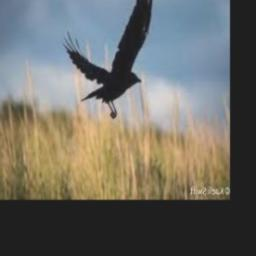Crow: (63, 0, 154, 120)
